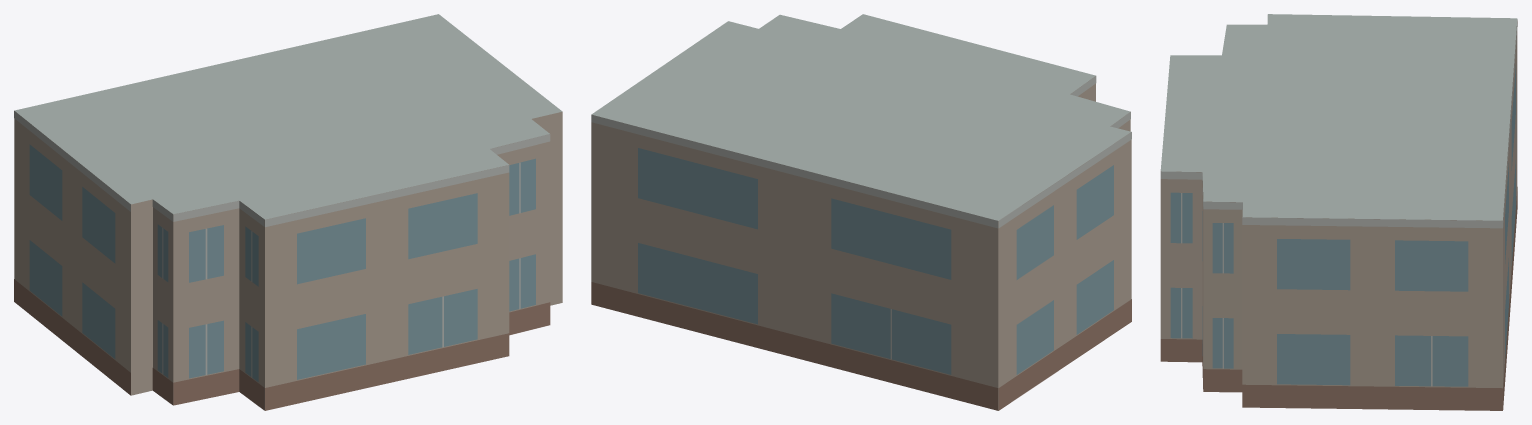
File: survey-upis-32874009.glb
3 views of the same model, side by side, from view 1: azimuth 30°, elevation 25°; view 2: azimuth 150°, elevation 25°; view 3: azimuth 270°, elevation 25° (orthographic).
Parts seen in each view (by area): view 1: survey-upis-32874009.tmp; view 2: survey-upis-32874009.tmp; view 3: survey-upis-32874009.tmp.
Boxes of the visible parts, x1,y1,x2,y2 form: survey-upis-32874009.tmp: (14,14,562,410); survey-upis-32874009.tmp: (591,14,1131,410); survey-upis-32874009.tmp: (1160,14,1517,410).
Bounding box in the file's own units: 14.23 × 6.1 × 10.38.
